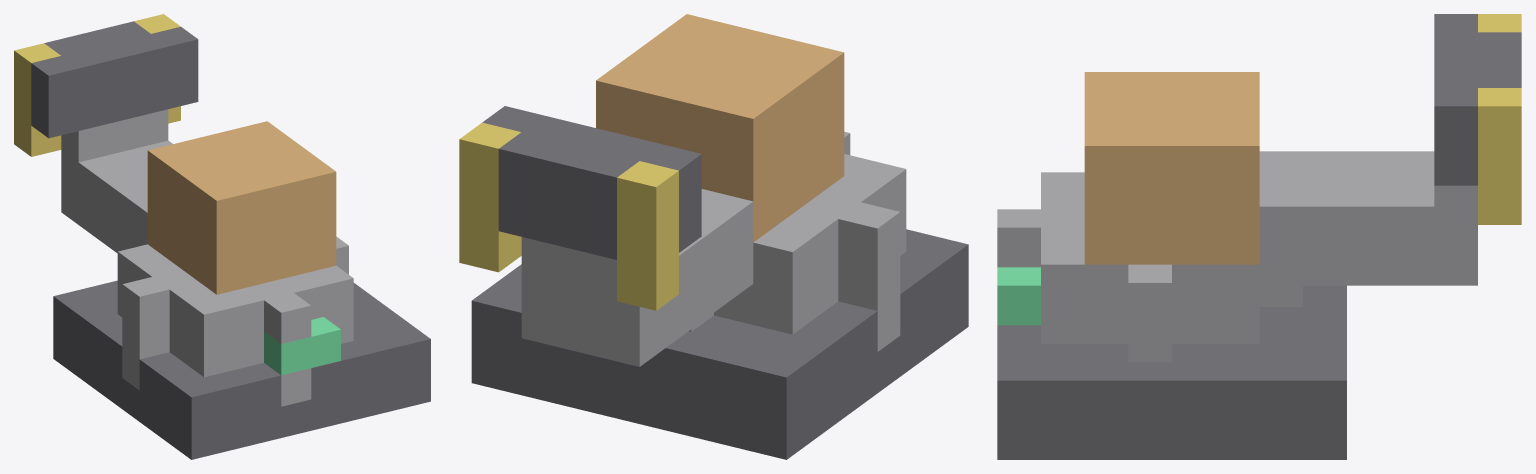
The model's file is inserter.glb.
3 views of the same model, side by side, from view 1: azimuth 30°, elevation 25°; view 2: azimuth 150°, elevation 25°; view 3: azimuth 270°, elevation 25° (orthographic). The views are drawn at different scales.
Visible parts, largest first — view 1: VoxelModel; view 2: VoxelModel; view 3: VoxelModel.
Boxes of the visible parts, box(x1,y1,x2,y2) form: VoxelModel: box(14, 14, 430, 459); VoxelModel: box(459, 14, 968, 459); VoxelModel: box(997, 14, 1521, 459).
Bounding box in the file's own units: 0.5 × 0.5 × 0.75.
